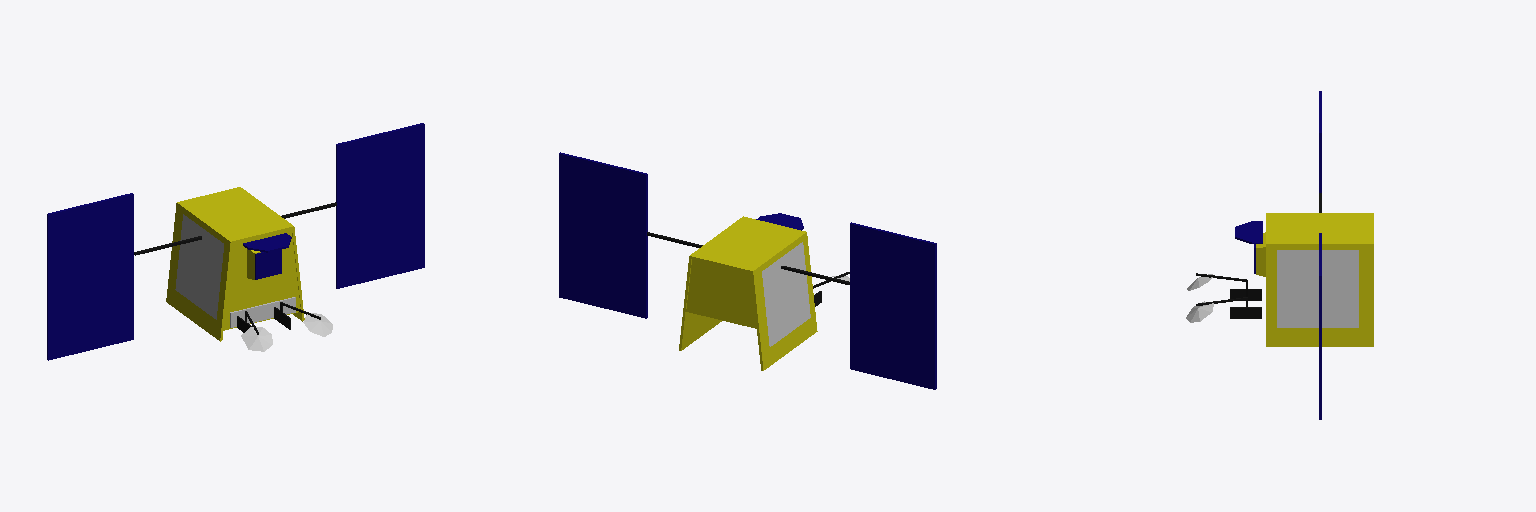
File: oneweb.obj
3 renders of one model, left to right at view 1: azimuth 30°, elevation 25°; view 2: azimuth 150°, elevation 25°; view 3: azimuth 270°, elevation 25°, orthographic.
Parts seen in each view (by area): view 1: Cube.024, Cube.175, Cube, Cube.016, Cube.001, Cube.008, Cube.004, Cube.019, Cone.001; view 2: Cube.024, Cube.175, Cube, Cube.002, Cube.016; view 3: Cube, Cube.013, Cube.024, Cube.019.
Boxes of the visible parts, <box> form: Cube.024: <box>336,123,424,288</box>; Cube.175: <box>47,193,133,360</box>; Cube: <box>166,187,304,341</box>; Cube.016: <box>175,214,223,319</box>; Cube.001: <box>224,229,300,330</box>; Cube.008: <box>230,297,295,327</box>; Cube.004: <box>255,250,281,279</box>; Cube.019: <box>243,233,291,252</box>; Cone.001: <box>241,327,272,351</box>; Cube.024: <box>559,152,647,318</box>; Cube.175: <box>850,222,936,389</box>; Cube: <box>679,216,817,370</box>; Cube.002: <box>686,259,756,328</box>; Cube.016: <box>762,242,810,346</box>; Cube: <box>1266,213,1373,346</box>; Cube.013: <box>1277,250,1358,327</box>; Cube.024: <box>1319,233,1321,419</box>; Cube.019: <box>1235,221,1262,243</box>.
Size of the model in its own units: 0.8056 by 0.2982 by 0.3496.